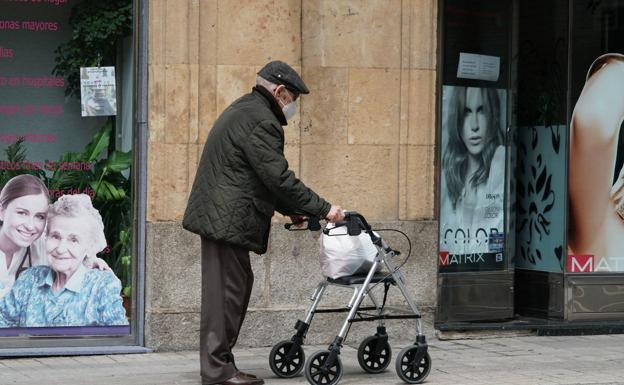walking_frame: (183, 60, 432, 385)
